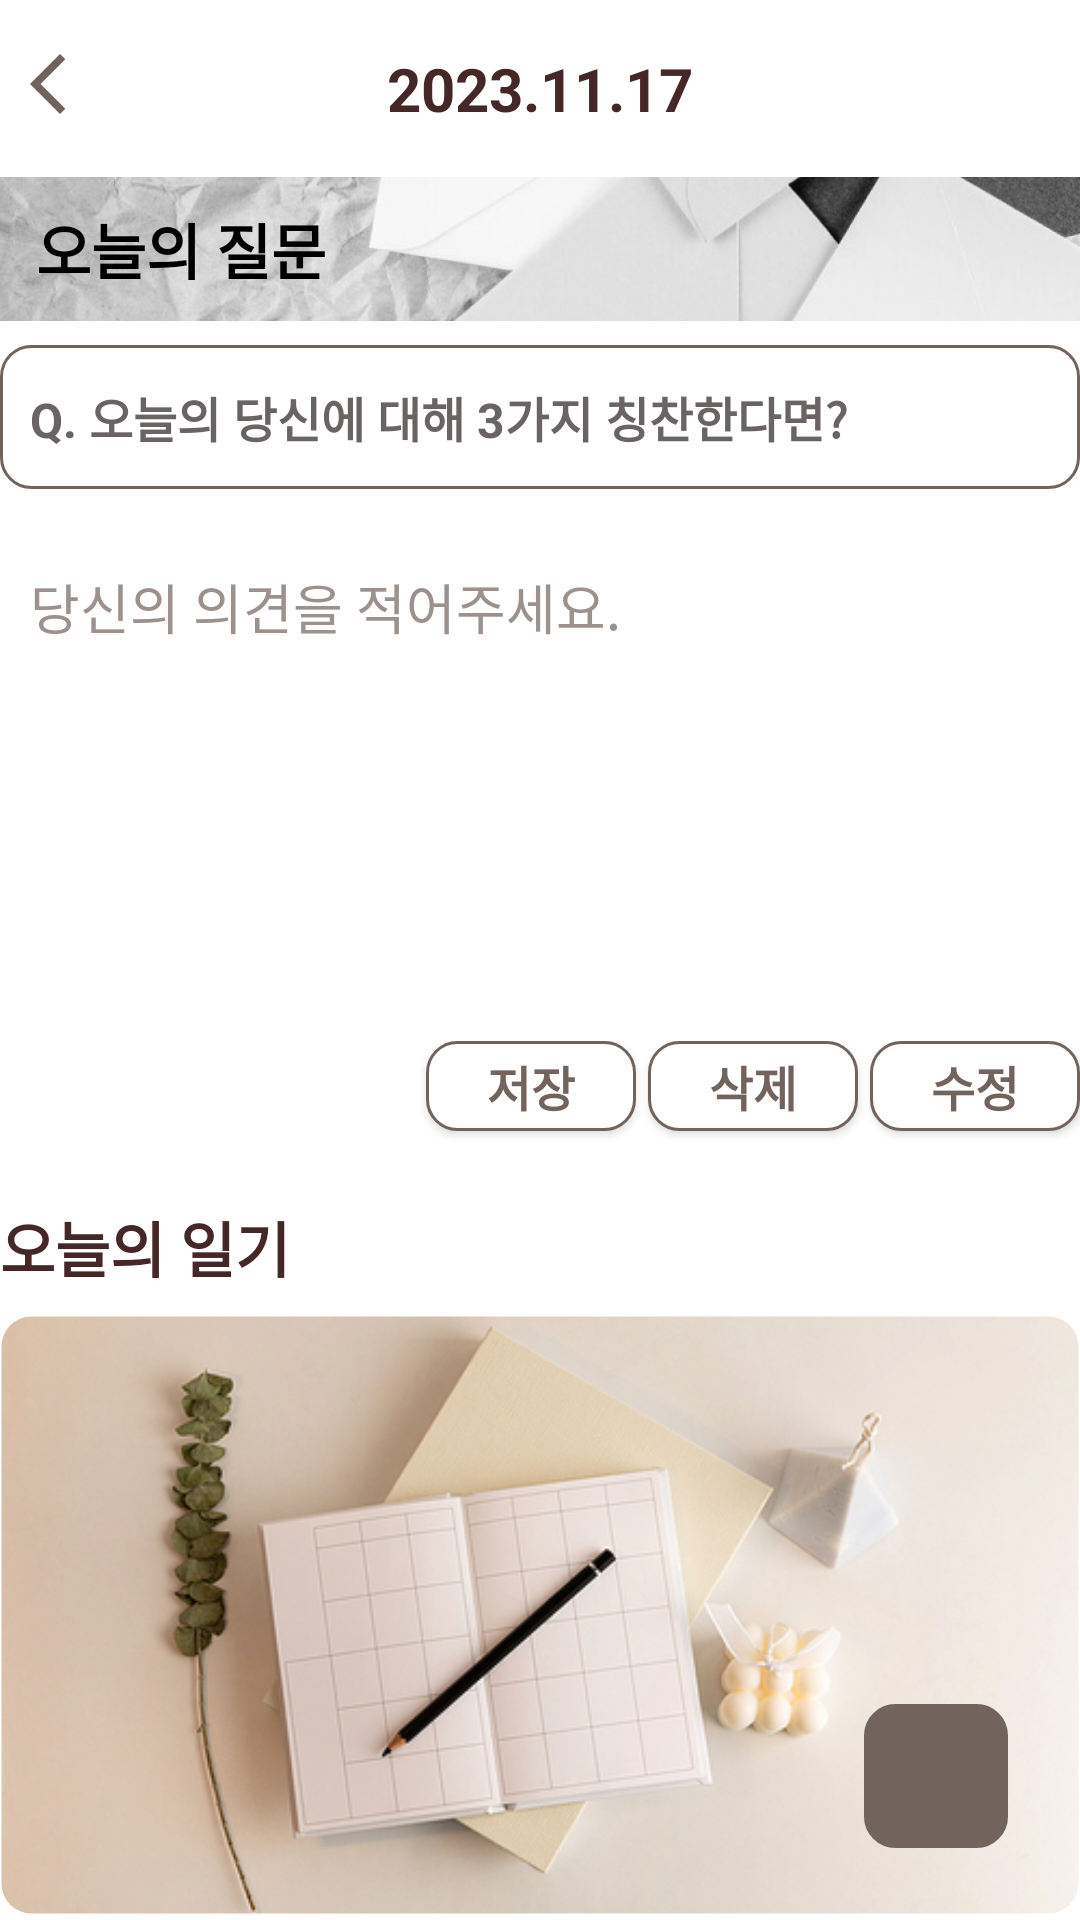

Screen size 1080px x 1920px. Icon name, then its center in pixels as (x,y):
arrow back: (47,84)
